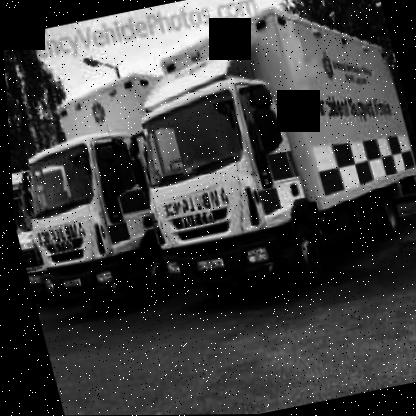emergency: (1, 19, 415, 357)
